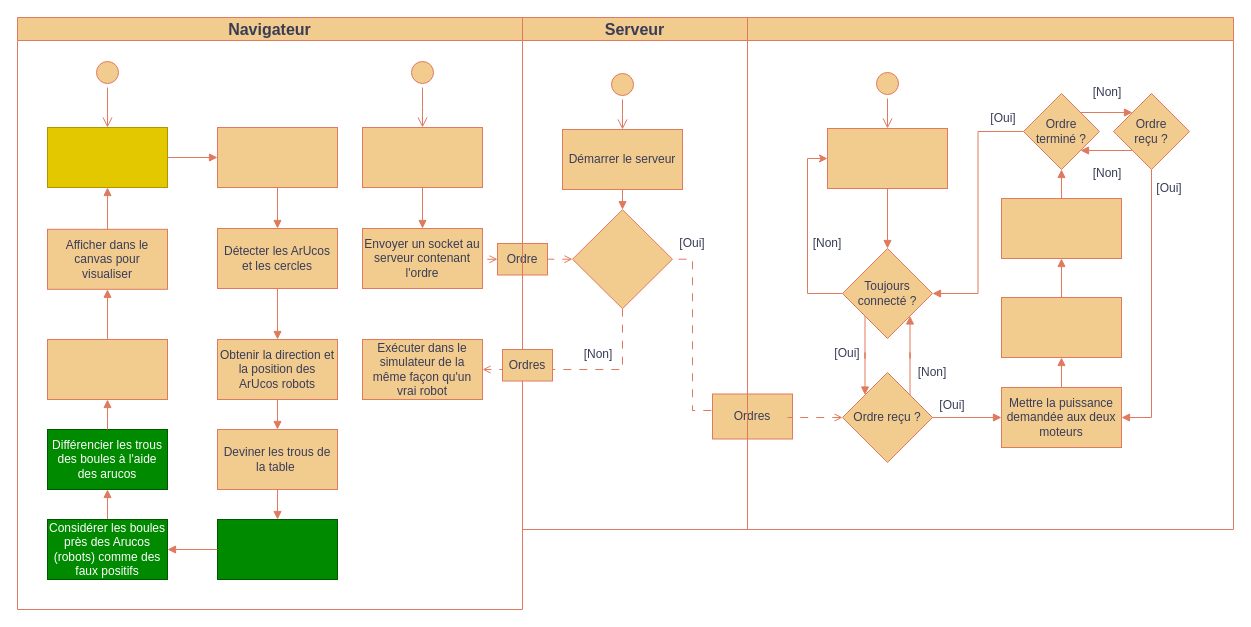
Some shapes in this 1251 by 627 pixel diagram are drawn without their labels. Here are the shapes that lost their labels. From the top down, the box of each, then its label:
(46, 126, 168, 188): Récupérer les images de la caméra (ou du simulateur)
(216, 126, 338, 188): Prétraiter l'image
(362, 126, 482, 188): Envoyer un ordre de déplacement à un robot
(826, 128, 948, 188): Connexion au réseau
(1000, 198, 1122, 258): Exécuter la requête pendant la durée indiquée
(572, 209, 672, 309): Pour un vrai robot ?
(746, 16, 1234, 530): Robot
(1000, 296, 1122, 358): Mettre le sens demandé aux deux moteurs
(46, 338, 168, 400): Deviner le diametre en pixel d'une boule à l'aide des arucos
(216, 518, 338, 580): Trier les boules situées à l'intérieur de la table de celles à l'extérieur
